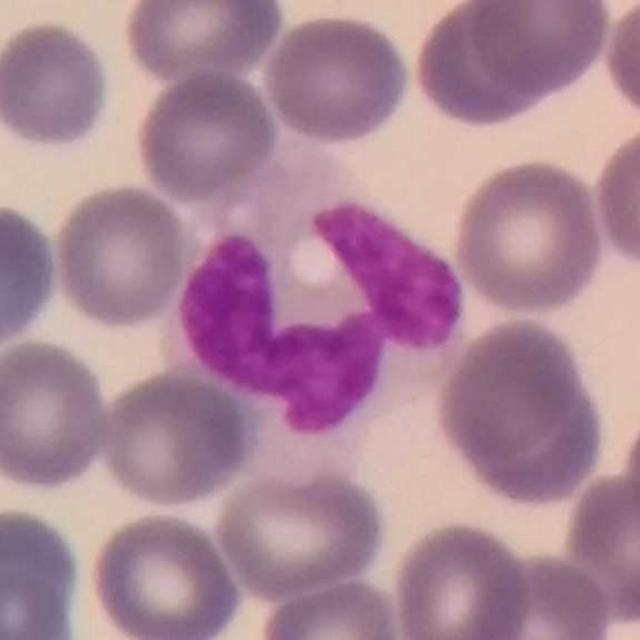mono: (161, 129, 469, 487)
